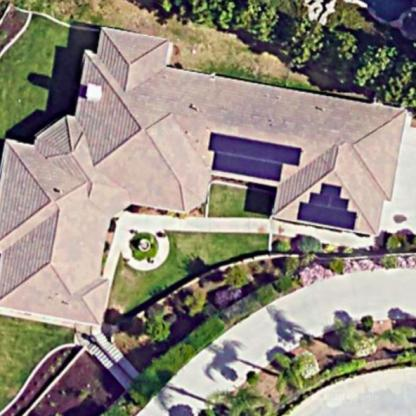solar_panel: (198, 120, 308, 187), (291, 176, 365, 231)
